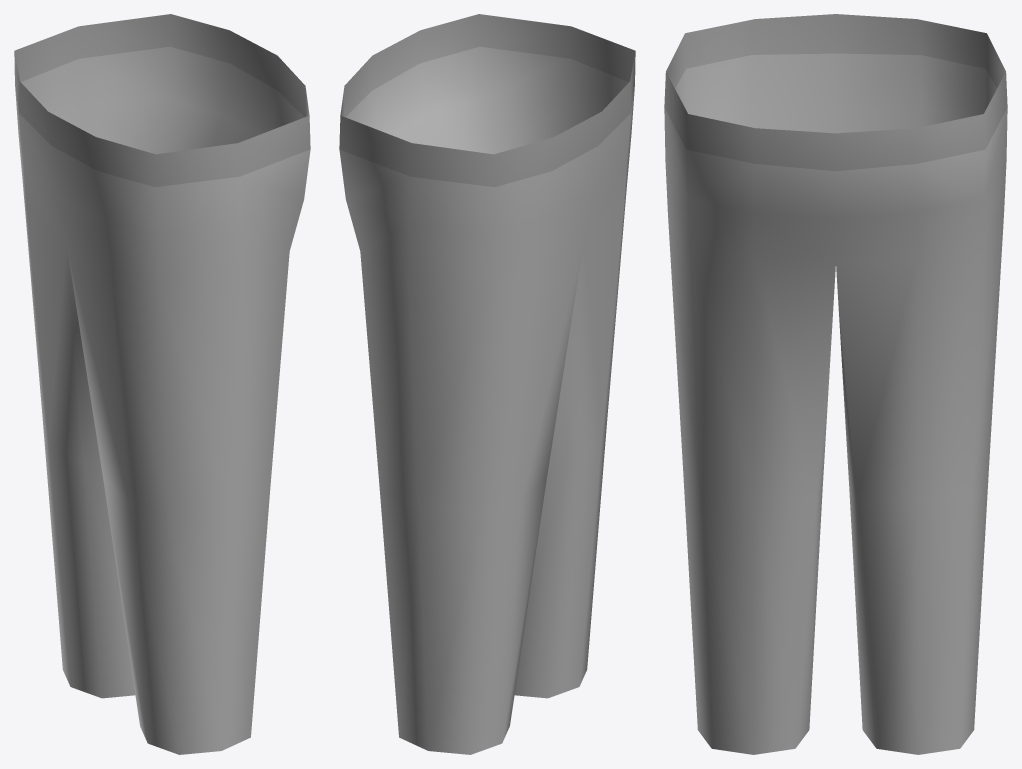
File: jeans.fbx
The picture shows the model from 3 angles, left to right: view 1: azimuth 30°, elevation 25°; view 2: azimuth 150°, elevation 25°; view 3: azimuth 270°, elevation 25°; orthographic projection. The views are drawn at different scales.
Visible parts, largest first — view 1: Cube.014; view 2: Cube.014; view 3: Cube.014.
Boxes of the visible parts, left/top/right/bottom form: Cube.014: left=14, top=14, right=310, bottom=754; Cube.014: left=339, top=14, right=635, bottom=754; Cube.014: left=664, top=14, right=1007, bottom=754.
Bounding box in the file's own units: 106 × 271 × 128.
